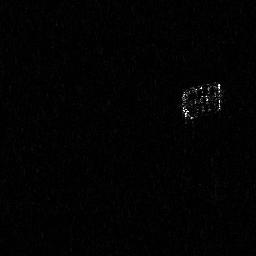ship: (179, 79, 226, 123)
